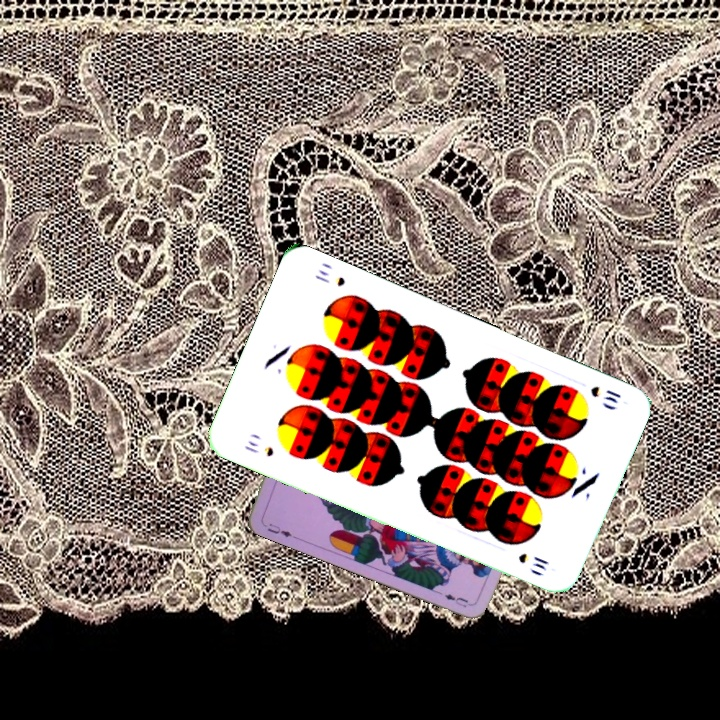EU: (263, 519, 294, 540)
S10: (586, 381, 624, 406), (240, 436, 277, 460)
